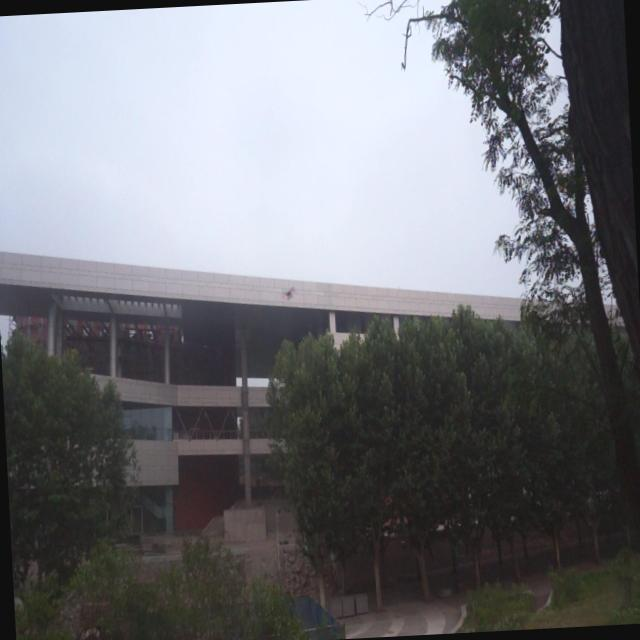drone: (280, 284, 298, 302)
